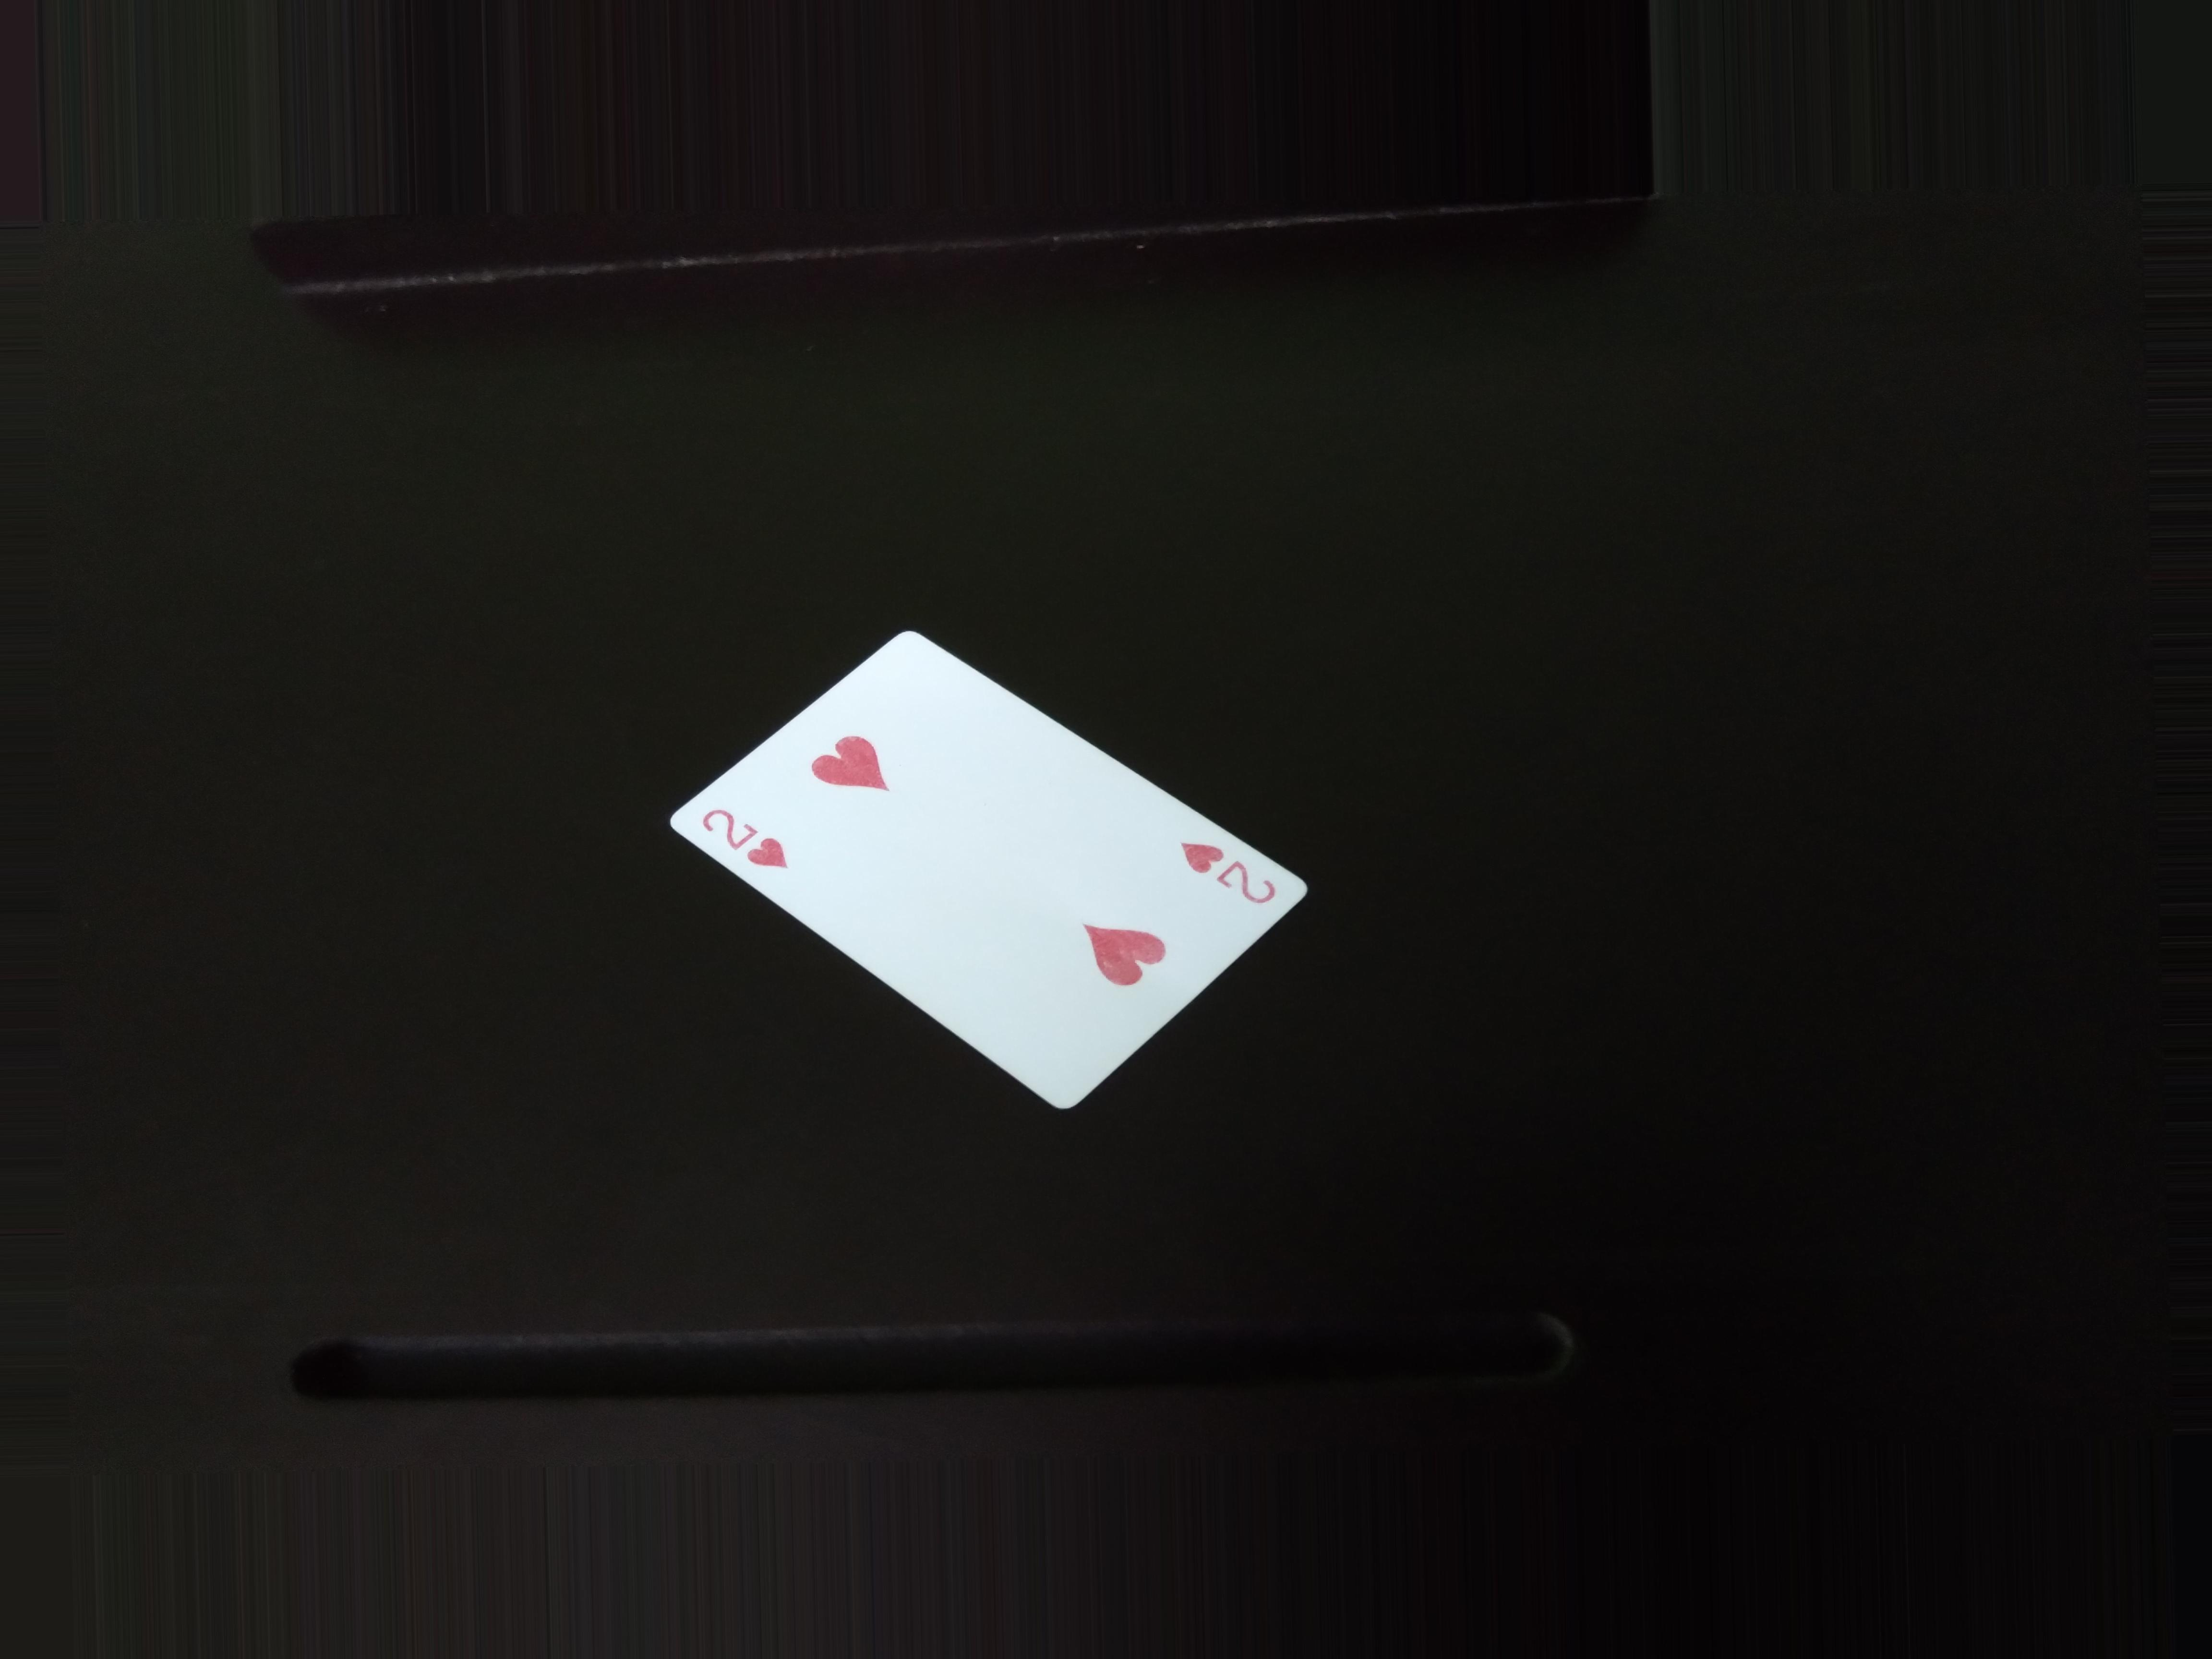2H: (1153, 819, 1308, 911)
